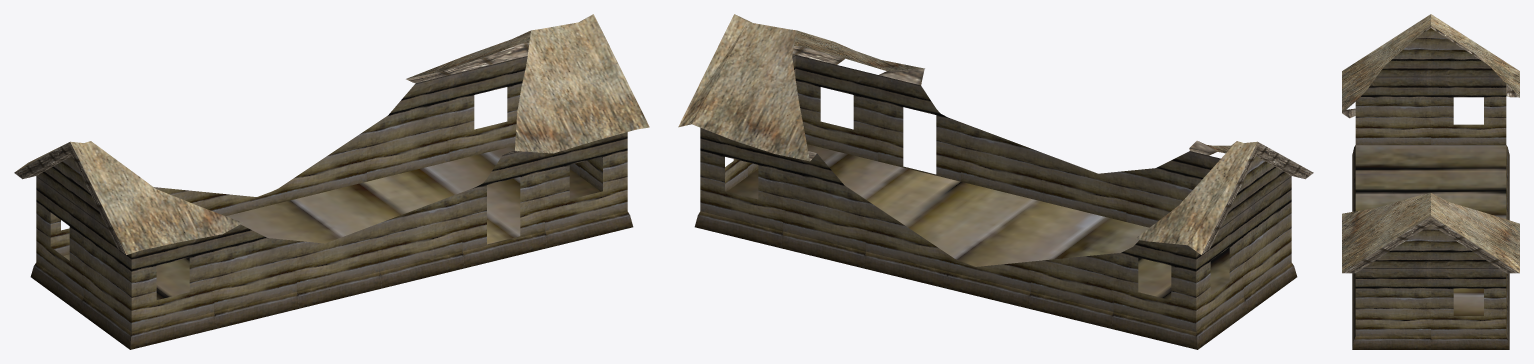
File: s44_b_house_3_3_destroyed_1.dae
3 views of the same model, side by side, from view 1: azimuth 30°, elevation 25°; view 2: azimuth 150°, elevation 25°; view 3: azimuth 270°, elevation 25° (orthographic). The views are drawn at different scales.
Parts seen in each view (by area): view 1: s44_b_house_1_3; view 2: s44_b_house_1_3; view 3: s44_b_house_1_3.
Boxes of the visible parts, box(x1,y1,x2,y2) form: s44_b_house_1_3: box(14, 14, 649, 349); s44_b_house_1_3: box(678, 14, 1313, 349); s44_b_house_1_3: box(1342, 14, 1519, 349).
Size of the model in its own units: 152 by 56.55 by 48.36.
Materials: 1 (1 with a texture image).
